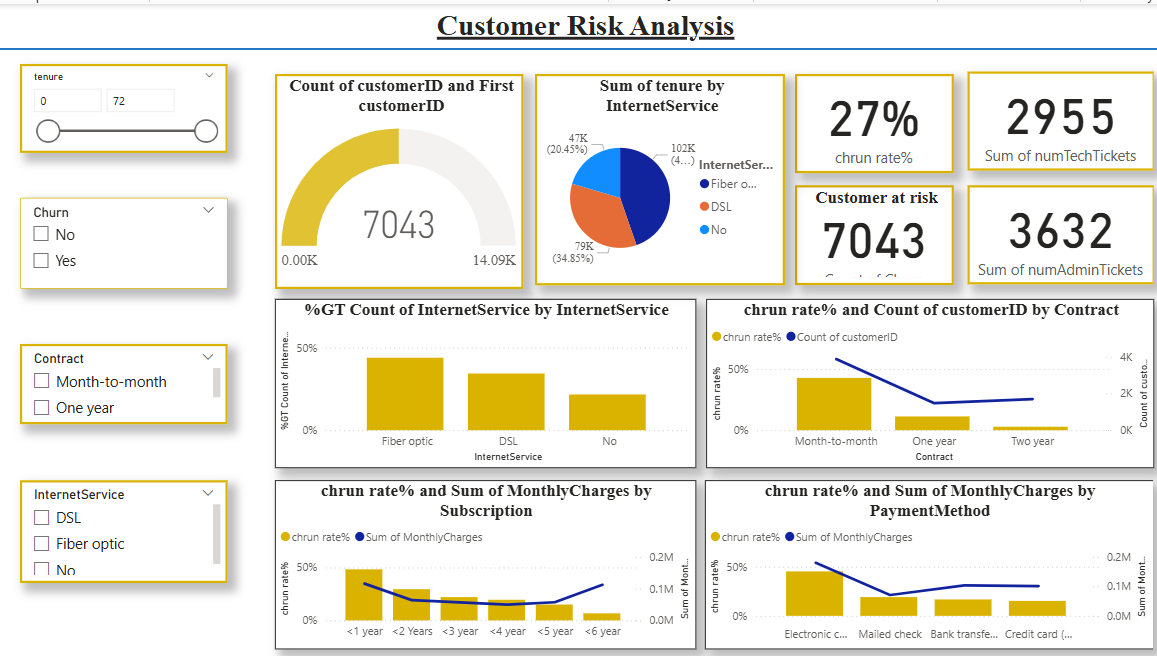

The page's visual inventory and layout, read from the dashboard file:
{"tool":"powerbi","page":{"name":"Page 3","canvas":[1280,720],"ordinal":2},"visuals":[{"type":"textbox","box":[153.7,0,978.4,65.9],"z":0},{"type":"slicer","fields":{"Values":["01 Churn-Dataset.InternetService"]},"box":[22,522.8,227.8,112.5],"z":1000},{"type":"slicer","fields":{"Values":["01 Churn-Dataset.Contract"]},"box":[22,373.2,227.8,87.8],"z":2000},{"type":"slicer","fields":{"Values":["01 Churn-Dataset.tenure"]},"box":[22,65.9,227.8,97.4],"z":3000},{"type":"slicer","fields":{"Values":["01 Churn-Dataset.Churn"]},"box":[22,212.7,227.8,100.2],"z":4000},{"type":"card","title":"Customer at risk","fields":{"Values":["CountNonNull(01 Churn-Dataset.Churn)"]},"box":[872.7,199,174.3,109.8],"z":5000},{"type":"card","fields":{"Values":["01 Churn-Dataset.chrun rate%"]},"box":[872.7,76.8,174.3,108.4],"z":6000},{"type":"gauge","fields":{"Y":["CountNonNull(01 Churn-Dataset.customerID)"]},"box":[301.9,76.8,273.1,236],"z":7000},{"type":"card","fields":{"Values":["Sum(01 Churn-Dataset.numAdminTickets)"]},"box":[1062.1,199,205.8,108.4],"z":8000},{"type":"card","fields":{"Values":["Sum(01 Churn-Dataset.numTechTickets)"]},"box":[1062.1,74.1,205.8,108.4],"z":9000},{"type":"clusteredColumnChart","fields":{"Category":["01 Churn-Dataset.InternetService"],"Y":["CountNonNull(01 Churn-Dataset.InternetService)"]},"box":[301.9,323.8,462.4,185.2],"z":10000},{"type":"pieChart","fields":{"Y":["Sum(01 Churn-Dataset.tenure)"],"Category":["01 Churn-Dataset.InternetService"]},"box":[587.3,76.8,274.4,231.9],"z":11000},{"type":"lineStackedColumnComboChart","fields":{"Y2":["CountNonNull(01 Churn-Dataset.customerID)"],"Category":["01 Churn-Dataset.Contract"],"Y":["01 Churn-Dataset.chrun rate%"]},"box":[775.3,323.8,492.6,185.2],"z":12000},{"type":"lineStackedColumnComboChart","fields":{"Category":["01 Churn-Dataset.Subscription"],"Y":["01 Churn-Dataset.chrun rate%"],"Y2":["Sum(01 Churn-Dataset.MonthlyCharges)"]},"box":[301.9,522.8,462.4,185.2],"z":13000},{"type":"lineStackedColumnComboChart","fields":{"Category":["01 Churn-Dataset.PaymentMethod"],"Y":["01 Churn-Dataset.chrun rate%"],"Y2":["Sum(01 Churn-Dataset.MonthlyCharges)"]},"box":[773.9,522.8,492.6,185.2],"z":14000},{"type":"shape","box":[0,32.9,1280.3,32.9],"z":15000}]}

Visuals, with their boxes on the page's 1280x720 design canvas (x1, y1, x2, y2). These are canvas units, not pixel positions in the 1157x656 screenshot, which may show the page scaled, cropped or inside an application window:
textbox: <region>154, 0, 1132, 66</region>
slicer - 01 Churn-Dataset.InternetService: <region>22, 523, 250, 635</region>
slicer - 01 Churn-Dataset.Contract: <region>22, 373, 250, 461</region>
slicer - 01 Churn-Dataset.tenure: <region>22, 66, 250, 163</region>
slicer - 01 Churn-Dataset.Churn: <region>22, 213, 250, 313</region>
"Customer at risk" card: <region>873, 199, 1047, 309</region>
card - 01 Churn-Dataset.chrun rate%: <region>873, 77, 1047, 185</region>
gauge - CountNonNull(01 Churn-Dataset.customerID): <region>302, 77, 575, 313</region>
card - Sum(01 Churn-Dataset.numAdminTickets): <region>1062, 199, 1268, 307</region>
card - Sum(01 Churn-Dataset.numTechTickets): <region>1062, 74, 1268, 182</region>
clusteredColumnChart - 01 Churn-Dataset.InternetService x CountNonNull(01 Churn-Dataset.InternetService): <region>302, 324, 764, 509</region>
pieChart - Sum(01 Churn-Dataset.tenure) x 01 Churn-Dataset.InternetService: <region>587, 77, 862, 309</region>
lineStackedColumnComboChart - CountNonNull(01 Churn-Dataset.customerID) x 01 Churn-Dataset.Contract: <region>775, 324, 1268, 509</region>
lineStackedColumnComboChart - 01 Churn-Dataset.Subscription x 01 Churn-Dataset.chrun rate%: <region>302, 523, 764, 708</region>
lineStackedColumnComboChart - 01 Churn-Dataset.PaymentMethod x 01 Churn-Dataset.chrun rate%: <region>774, 523, 1266, 708</region>
shape: <region>0, 33, 1280, 66</region>
